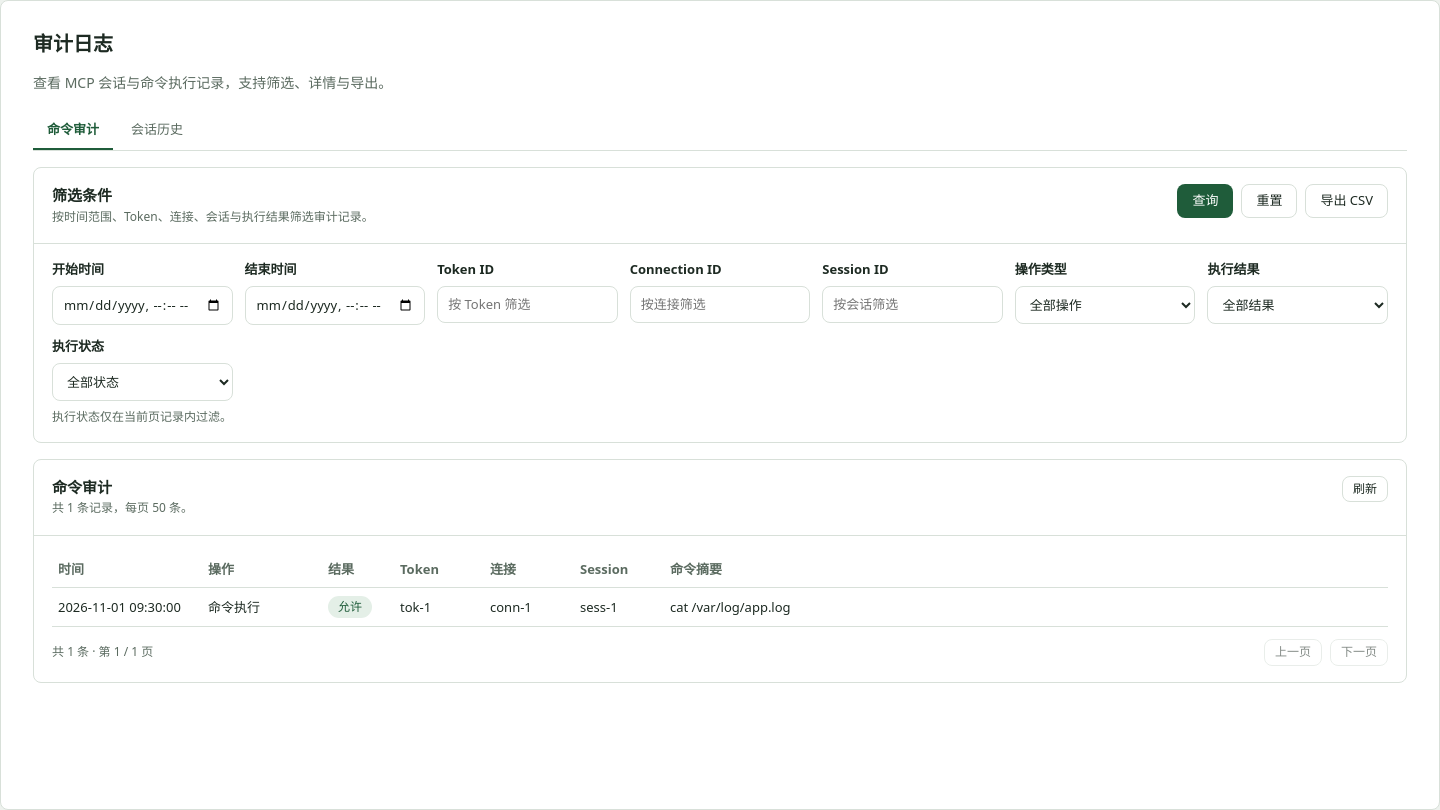
Test: AuditPage 列表与详情 › 点击行后展示完整命令、输出、错误与脱敏标记
The image size is (1440, 810).
Click the text "cat /var/log/app.log". click: [730, 606]
box: [670,598,791,616]
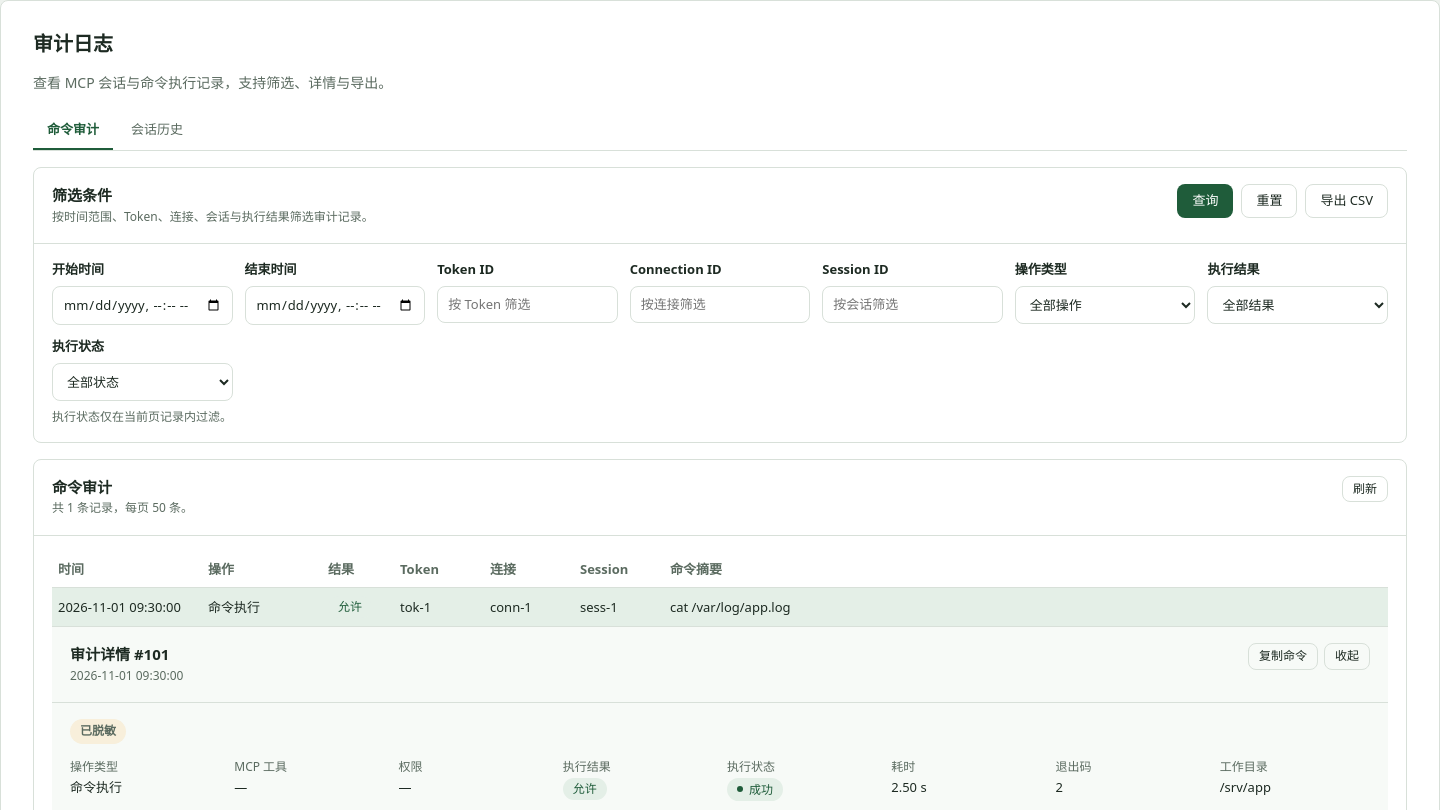
Result: the text "已脱敏" is shown at [70,719,126,744]
Result: the text "成功" is shown at [727,778,783,801]
Result: the text "/srv/app" is shown at [1220,778,1271,796]
